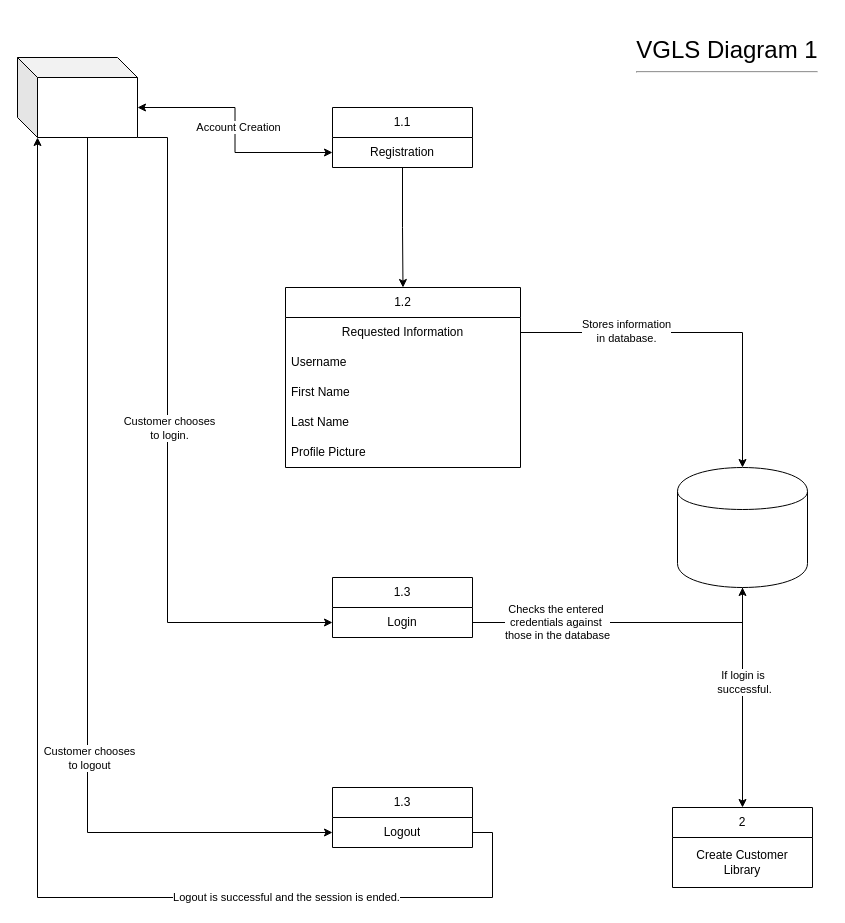
The diagram is 845 pixels wide and 923 high, and some of its shapes have lost their labels. The shapes that lost their labels are listed below. From the top down, each one's centre as x and y in pixels, then its label:
[77,97]: Customer
[742,527]: Database
